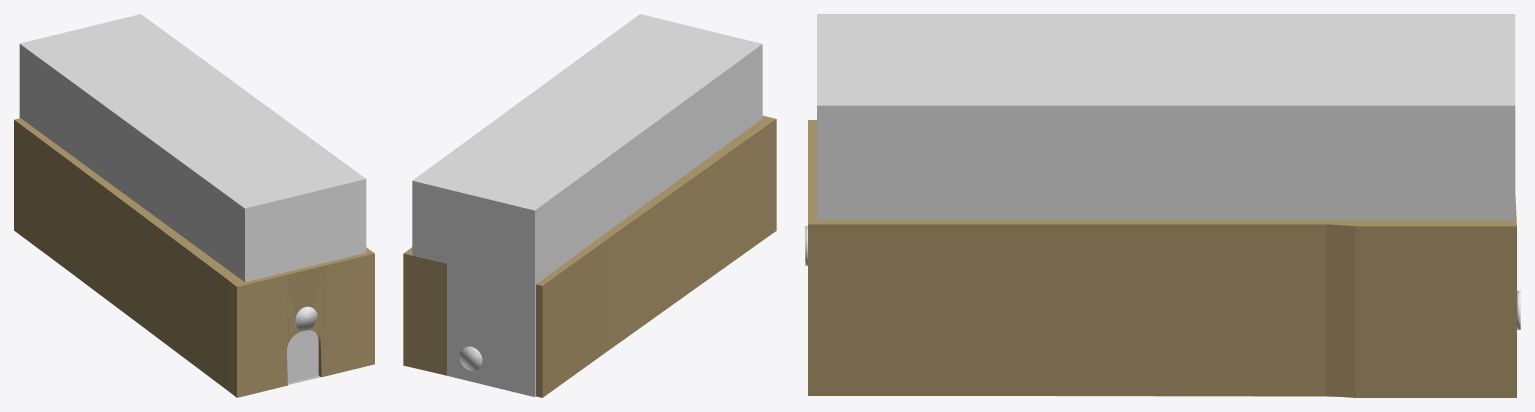
Rendered from carmine2.glb.
The picture shows the model from 3 angles, left to right: view 1: azimuth 30°, elevation 25°; view 2: azimuth 150°, elevation 25°; view 3: azimuth 270°, elevation 25°; orthographic projection. The views are drawn at different scales.
Parts seen in each view (by area): view 1: Placeholder, PareteL, PareteB, PareteT, 1; view 2: Placeholder, PareteL, PareteT, PareteB, 14; view 3: Placeholder, PareteR, PareteB, PareteT.
Part boxes in pixels (left/top/right/bottom): Placeholder: left=19, top=14, right=366, bottom=382; PareteL: left=21, top=124, right=236, bottom=389; PareteB: left=227, top=247, right=374, bottom=397; PareteT: left=14, top=118, right=27, bottom=235; 1: left=294, top=306, right=317, bottom=330; Placeholder: left=412, top=14, right=762, bottom=396; PareteL: left=544, top=124, right=765, bottom=391; PareteT: left=403, top=247, right=550, bottom=397; PareteB: left=755, top=115, right=776, bottom=238; 14: left=459, top=346, right=482, bottom=371; Placeholder: left=817, top=14, right=1515, bottom=219; PareteR: left=840, top=220, right=1488, bottom=397; PareteB: left=808, top=120, right=839, bottom=395; PareteT: left=1488, top=196, right=1516, bottom=397.
Size of the model in its own units: 12.74 by 16 by 36.27.
